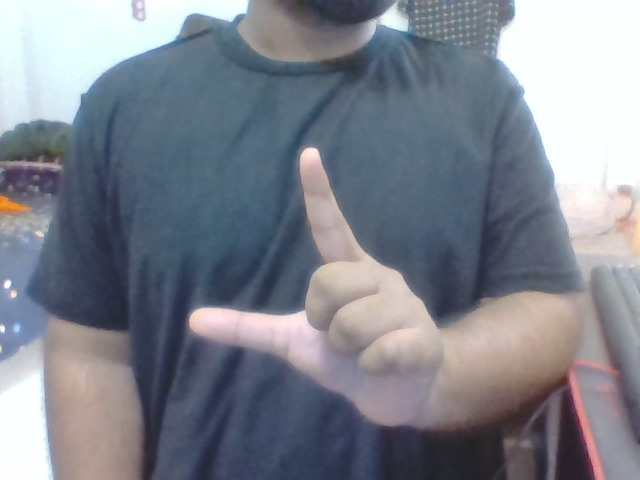L: (182, 132, 455, 434)
